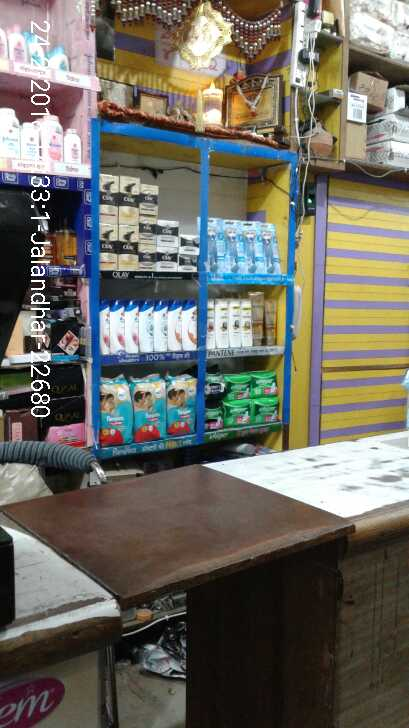venus: (225, 223, 243, 273), (208, 221, 225, 273), (243, 223, 261, 272), (261, 224, 278, 272)
